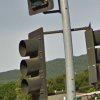Traffic light: (12, 19, 59, 100)
